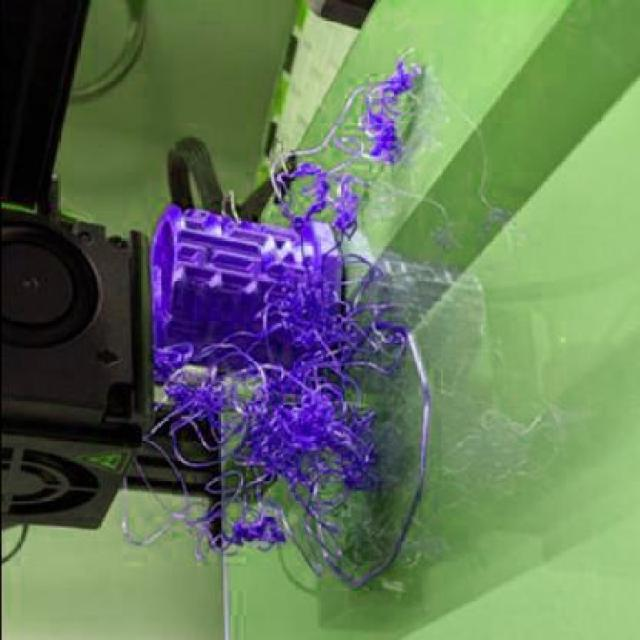Spaghetti: (119, 280, 404, 588), (268, 49, 422, 271)
